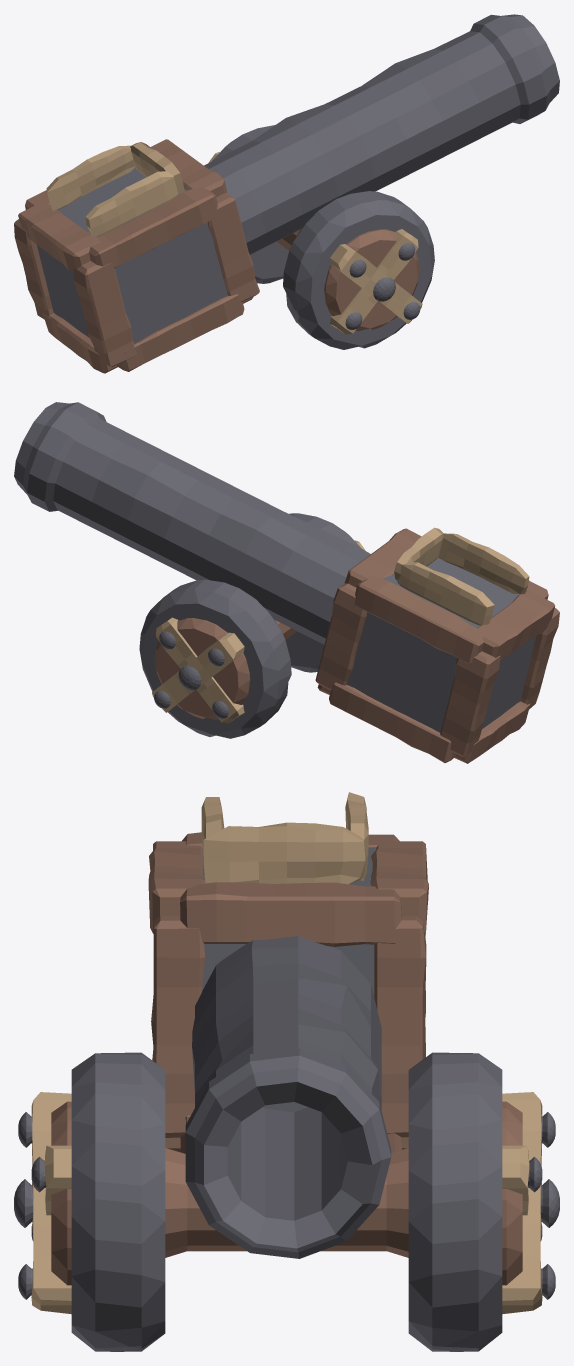
File: Canon.fbx
The picture shows the model from 3 angles, top to bottom: view 1: azimuth 30°, elevation 25°; view 2: azimuth 150°, elevation 25°; view 3: azimuth 270°, elevation 25°; orthographic projection. The views are drawn at different scales.
Visible parts, largest first — view 1: Canon, Wheels; view 2: Canon, Wheels; view 3: Canon, Wheels.
Boxes of the visible parts, left/top/right/bottom form: Canon: left=14, top=14, right=559, bottom=373; Wheels: left=208, top=125, right=434, bottom=349; Canon: left=14, top=402, right=559, bottom=763; Wheels: left=139, top=513, right=365, bottom=738; Canon: left=148, top=792, right=428, bottom=1258; Wheels: left=14, top=1052, right=559, bottom=1351.
Size of the model in its own units: 707 by 331 by 359.
